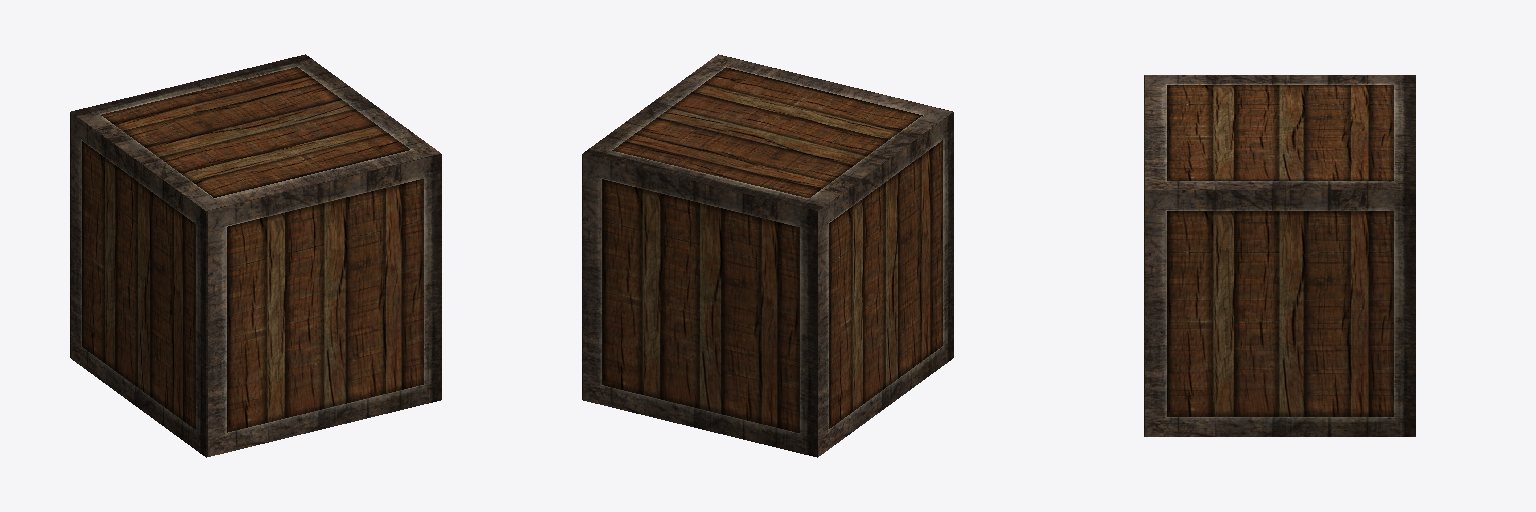
3 views of the same model, side by side, from view 1: azimuth 30°, elevation 25°; view 2: azimuth 150°, elevation 25°; view 3: azimuth 270°, elevation 25° (orthographic).
Parts seen in each view (by area): view 1: Cube.001; view 2: Cube.001; view 3: Cube.001.
Part boxes in pixels (left/top/right/bottom): Cube.001: left=70, top=54, right=441, bottom=457; Cube.001: left=582, top=54, right=953, bottom=457; Cube.001: left=1144, top=75, right=1415, bottom=436.
Size of the model in its own units: 2 by 2 by 2.
Materials: 1 (1 with a texture image).